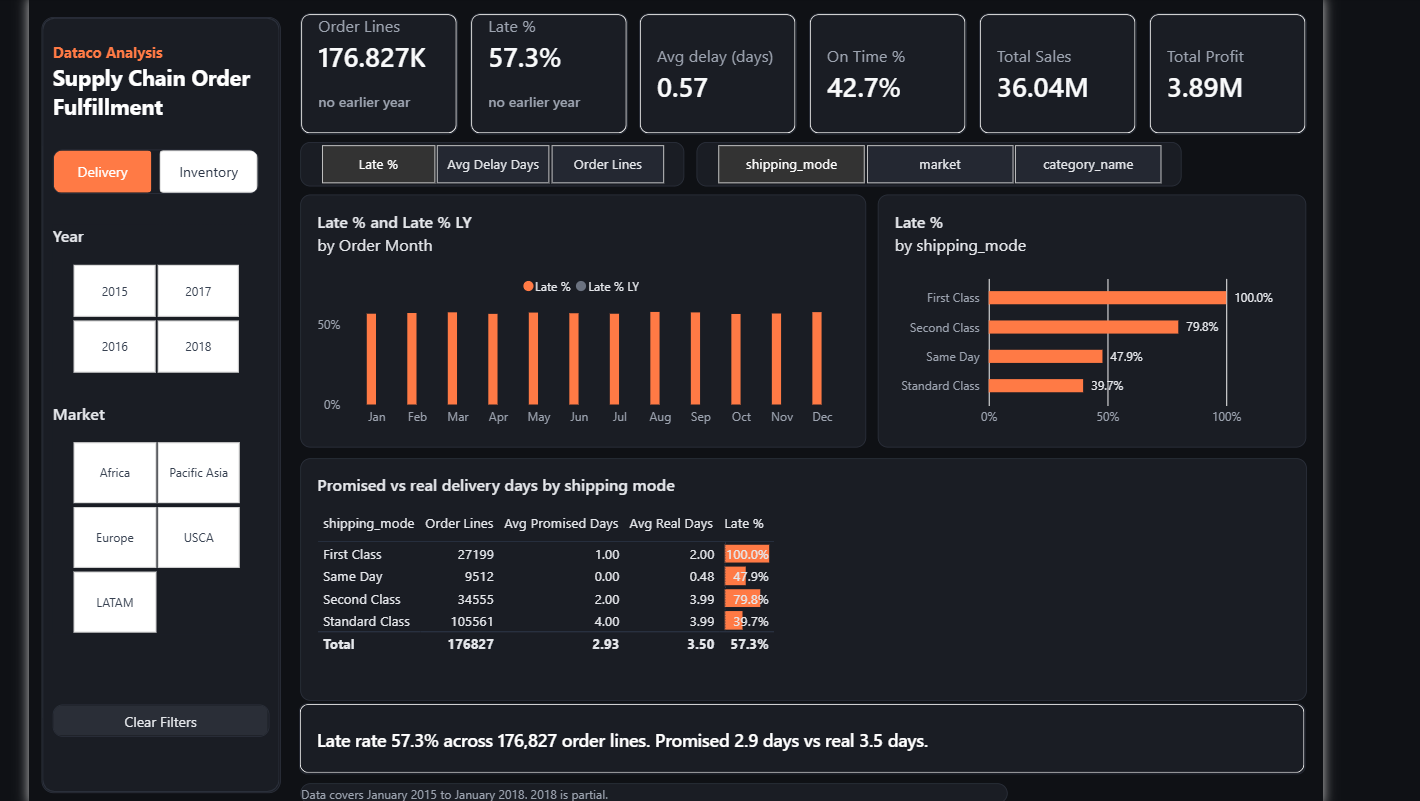

The dashboard page shown, as its layout file describes it:
{"tool":"powerbi","page":{"name":"Delivery ","canvas":[1280,800],"ordinal":0},"visuals":[{"type":"shape","box":[12,20,236.7,768],"z":0},{"type":"textbox","box":[23.5,27.2,214,97.7],"z":1000},{"type":"pageNavigator","box":[23.5,150.9,204,44],"z":2000},{"type":"slicer","title":"Year","fields":{"Values":["orders.Order Year"]},"box":[23.5,225.1,203.3,148.3],"z":3000},{"type":"slicer","title":"Market","fields":{"Values":["shipping.market"]},"box":[23.5,400.7,204,230],"z":4000},{"type":"cardVisual","fields":{"Data":["shipping.Order Lines"]},"box":[268,16,156,120],"z":5000},{"type":"cardVisual","fields":{"Data":["shipping.Late %"]},"box":[436,16.7,156,120],"z":6000},{"type":"cardVisual","fields":{"Data":["shipping.Avg Delay Days"]},"box":[604,16.7,156,120],"z":7000},{"type":"cardVisual","fields":{"Data":["shipping.On Time %"]},"box":[772,16.7,156,120],"z":8000},{"type":"cardVisual","fields":{"Data":["shipping.Total Sales"]},"box":[940,16.7,156,120],"z":9000},{"type":"cardVisual","fields":{"Data":["shipping.Total Profit"]},"box":[1108,16.7,156,120],"z":10000},{"type":"clusteredColumnChart","fields":{"Category":["orders.Order Month"],"Y":["shipping.Late %","shipping.Late % LY"]},"box":[268,196,560,250],"z":11000},{"type":"slicer","fields":{"Values":["Metric.Metric"]},"box":[268,144,380,44],"z":12000},{"type":"slicer","fields":{"Values":["Break Down By.Break Down By"]},"box":[660,144,480,44],"z":13000},{"type":"clusteredBarChart","fields":{"Category":["shipping.shipping_mode"],"Y":["shipping.Late %"]},"box":[840,196,424,250],"z":14000},{"type":"tableEx","title":"Promised vs real delivery days by shipping mode","fields":{"Values":["shipping.shipping_mode","shipping.Order Lines","shipping.Avg Promised Days","shipping.Avg Real Days","shipping.Late %"]},"box":[268,456,996,240],"z":15000},{"type":"cardVisual","fields":{"Data":["shipping.Insight Text"]},"box":[267.6,699.4,996,70],"z":16000},{"type":"actionButton","box":[23,700,214,32],"z":17000},{"type":"textbox","box":[268.4,778,700,20],"z":18000}]}

Visuals, with their boxes on the page's 1280x800 design canvas (x1, y1, x2, y2). These are canvas units, not pixel positions in the 1420x801 screenshot, which may show the page scaled, cropped or inside an application window:
shape: {"x1": 12, "y1": 20, "x2": 249, "y2": 788}
textbox: {"x1": 24, "y1": 27, "x2": 238, "y2": 125}
pageNavigator: {"x1": 24, "y1": 151, "x2": 228, "y2": 195}
"Year" slicer: {"x1": 24, "y1": 225, "x2": 227, "y2": 373}
"Market" slicer: {"x1": 24, "y1": 401, "x2": 228, "y2": 631}
cardVisual - shipping.Order Lines: {"x1": 268, "y1": 16, "x2": 424, "y2": 136}
cardVisual - shipping.Late %: {"x1": 436, "y1": 17, "x2": 592, "y2": 137}
cardVisual - shipping.Avg Delay Days: {"x1": 604, "y1": 17, "x2": 760, "y2": 137}
cardVisual - shipping.On Time %: {"x1": 772, "y1": 17, "x2": 928, "y2": 137}
cardVisual - shipping.Total Sales: {"x1": 940, "y1": 17, "x2": 1096, "y2": 137}
cardVisual - shipping.Total Profit: {"x1": 1108, "y1": 17, "x2": 1264, "y2": 137}
clusteredColumnChart - orders.Order Month x shipping.Late %: {"x1": 268, "y1": 196, "x2": 828, "y2": 446}
slicer - Metric.Metric: {"x1": 268, "y1": 144, "x2": 648, "y2": 188}
slicer - Break Down By.Break Down By: {"x1": 660, "y1": 144, "x2": 1140, "y2": 188}
clusteredBarChart - shipping.shipping_mode x shipping.Late %: {"x1": 840, "y1": 196, "x2": 1264, "y2": 446}
"Promised vs real delivery days by shipping mode" tableEx: {"x1": 268, "y1": 456, "x2": 1264, "y2": 696}
cardVisual - shipping.Insight Text: {"x1": 268, "y1": 699, "x2": 1264, "y2": 769}
actionButton: {"x1": 23, "y1": 700, "x2": 237, "y2": 732}
textbox: {"x1": 268, "y1": 778, "x2": 968, "y2": 798}
